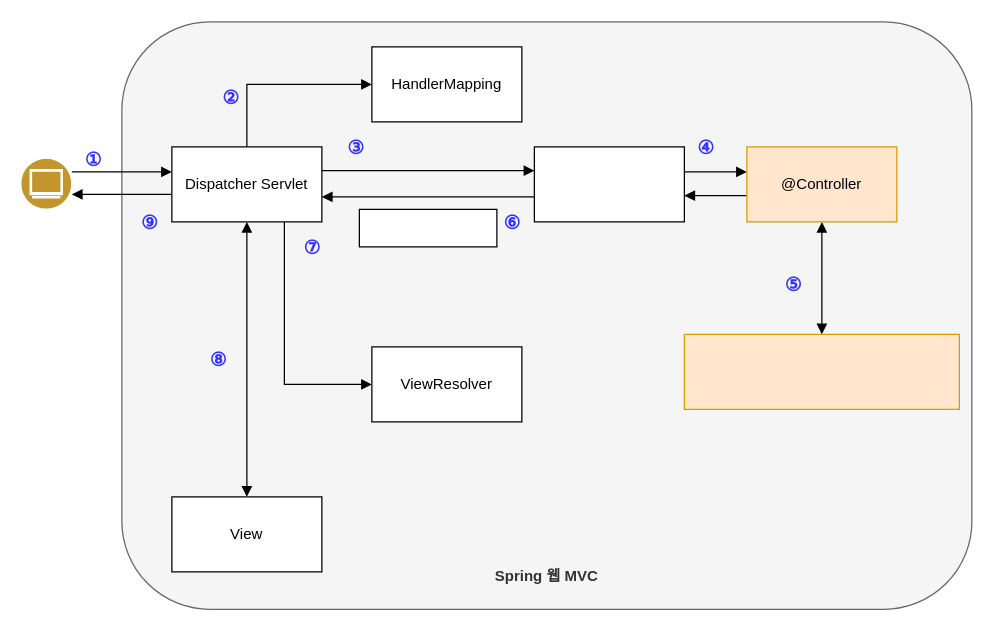
Image size: 994x631. Some labels were removed from this diagram. Each missing label, with the centre of its shape:
"@Service, @Component, @Repository 비즈니스 로직 처리" belongs at point 821,371.
"HandlerAdapter" belongs at point 608,184.
"ModelAndView" belongs at point 427,227.
